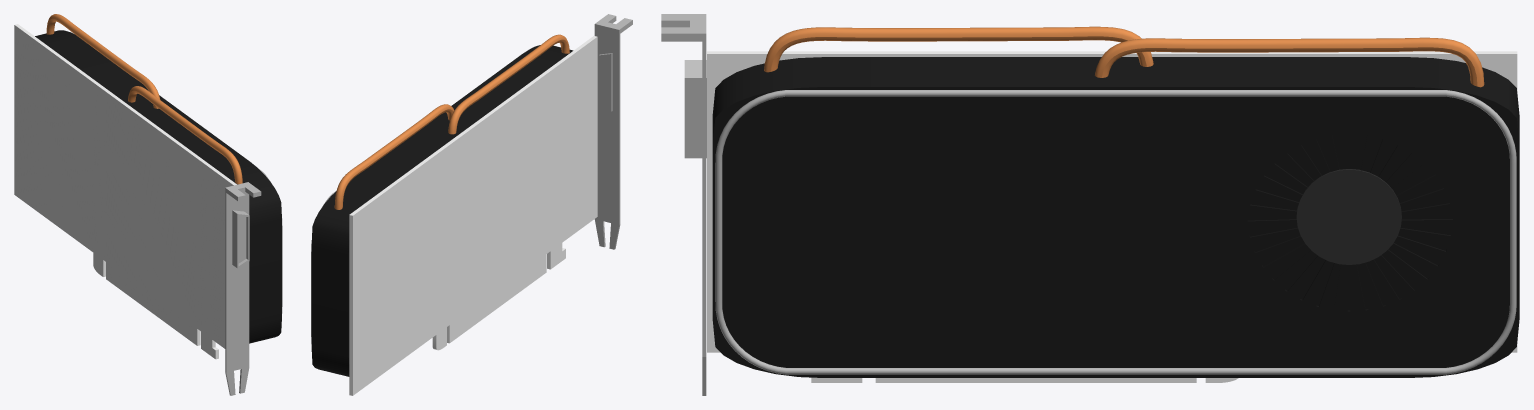
Rendered from 11_GPX_880_a.glb.
3 renders of one model, left to right at view 1: azimuth 30°, elevation 25°; view 2: azimuth 150°, elevation 25°; view 3: azimuth 270°, elevation 25°, orthographic. The views are drawn at different scales.
Visible parts, largest first — view 1: Cube008_4, Cube008_1, Cube008_5, Cube008_7; view 2: Cube008_4, Cube008_1, Cube008_5, Cube008_7; view 3: Cube008_1, Cube008_3, Cube008_7, Cube008_4, Cube008_2, Cube008_5.
Boxes of the visible parts, <box> form: Cube008_4: <box>14,24,236,359</box>; Cube008_1: <box>35,30,281,343</box>; Cube008_5: <box>225,182,261,395</box>; Cube008_7: <box>46,14,242,184</box>; Cube008_4: <box>349,36,597,395</box>; Cube008_1: <box>311,45,573,376</box>; Cube008_5: <box>594,14,632,249</box>; Cube008_7: <box>334,34,569,209</box>; Cube008_1: <box>712,57,1519,377</box>; Cube008_3: <box>715,90,1516,374</box>; Cube008_7: <box>764,26,1484,87</box>; Cube008_4: <box>707,51,1517,382</box>; Cube008_2: <box>1296,169,1401,264</box>; Cube008_5: <box>661,14,706,395</box>.
Size of the model in its own units: 0.2564 by 0.8756 by 1.79.
